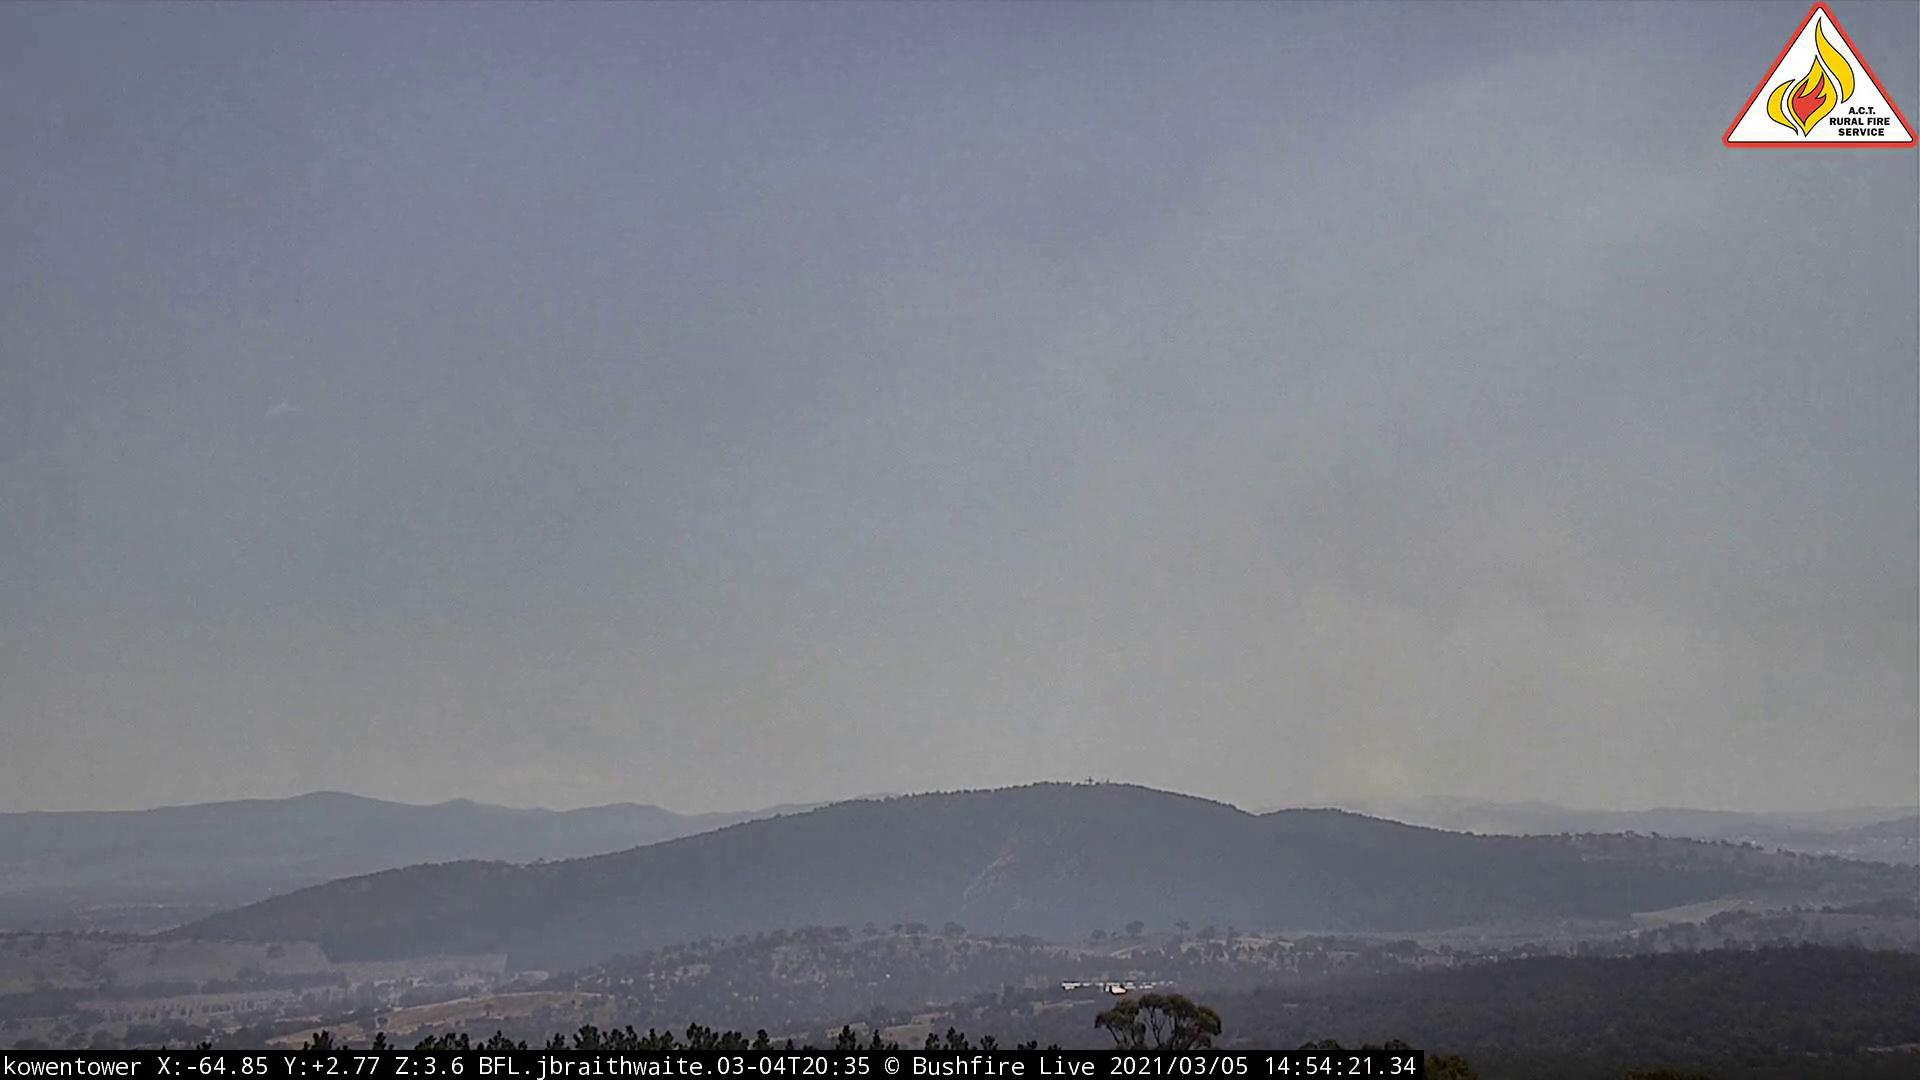Smoke: (1058, 368, 1804, 848)
